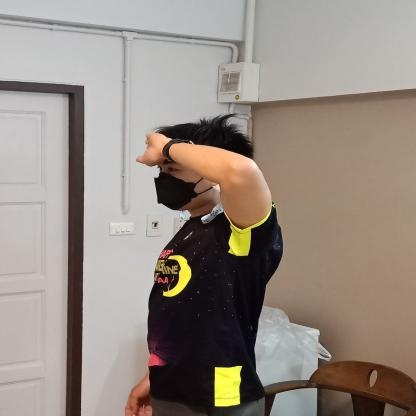Sick: (120, 124, 273, 229)
